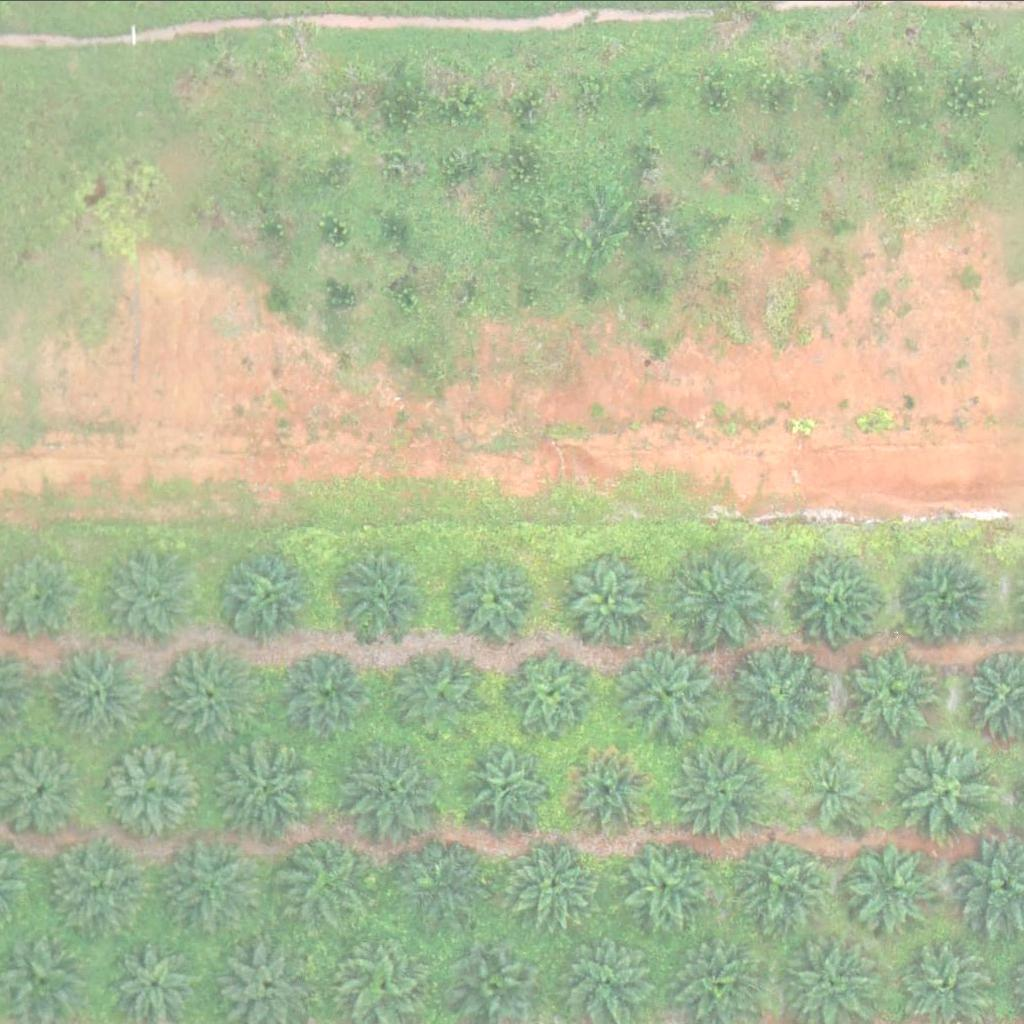Kelapa_Sawit: (43, 834, 144, 934), (164, 829, 265, 929), (103, 738, 204, 838), (214, 739, 315, 839), (347, 738, 448, 838), (48, 636, 149, 736), (159, 643, 260, 743), (218, 544, 319, 644), (898, 734, 999, 834), (618, 834, 719, 934), (734, 833, 835, 933), (273, 826, 373, 926), (393, 827, 493, 927), (668, 549, 768, 649), (620, 644, 720, 744), (734, 642, 834, 742), (672, 739, 772, 839), (283, 650, 371, 738), (339, 548, 427, 636), (453, 552, 541, 640), (563, 551, 651, 639), (850, 644, 938, 732), (510, 837, 598, 925), (395, 647, 483, 734), (108, 551, 196, 638), (467, 742, 555, 829), (800, 552, 888, 639), (897, 551, 985, 638), (506, 650, 594, 737), (564, 746, 652, 833), (846, 843, 934, 930), (800, 752, 876, 827)
